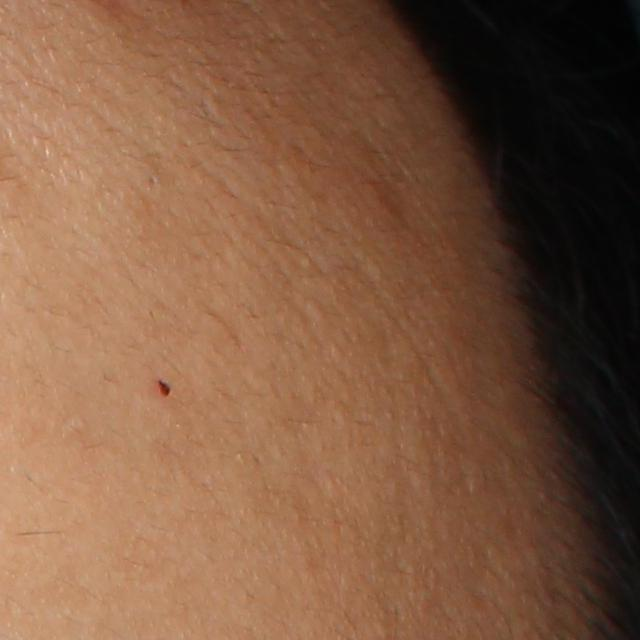other: (154, 376, 174, 401)
